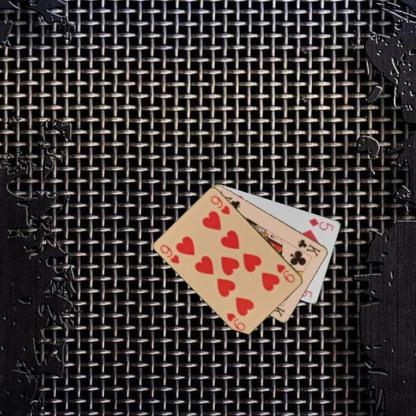5d: (307, 216, 335, 232)
9h: (158, 242, 181, 265), (274, 261, 296, 284)
Kc: (295, 236, 322, 258)
